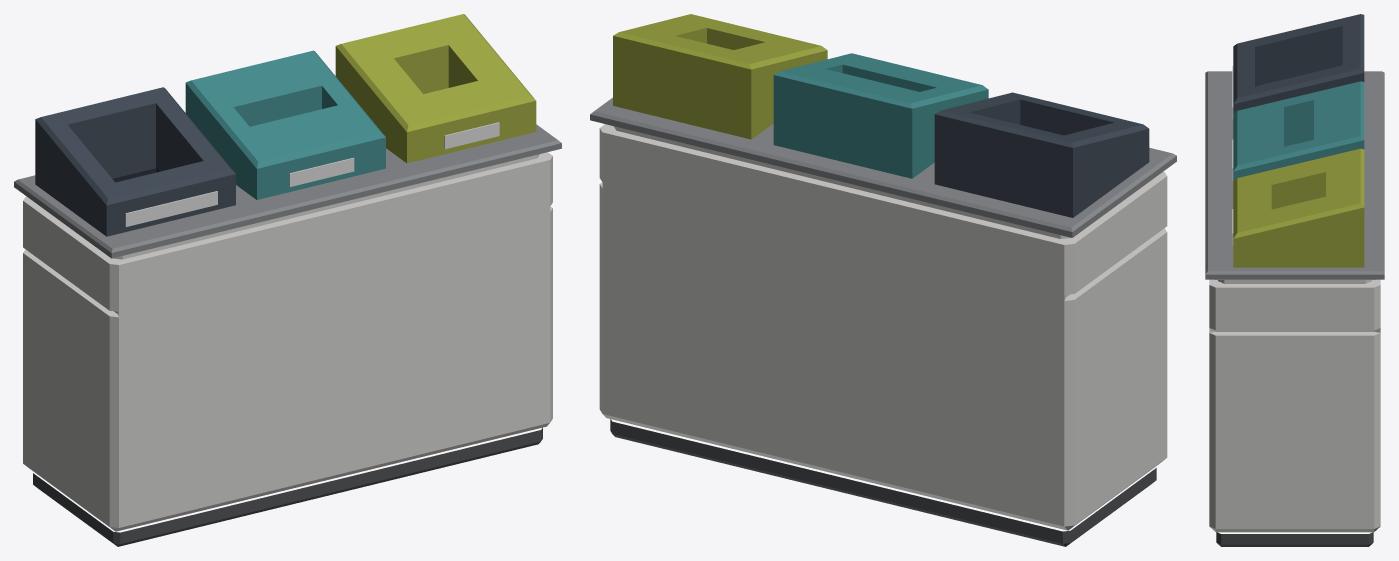
File: three-stream-recycling-station-14da24.glb
3 views of the same model, side by side, from view 1: azimuth 30°, elevation 25°; view 2: azimuth 150°, elevation 25°; view 3: azimuth 270°, elevation 25° (orthographic). The views are drawn at different scales.
Visible parts, largest first — view 1: station, lid-general, lid-cans, lid-paper; view 2: station, lid-general, lid-paper, lid-cans; view 3: station, lid-cans, lid-general, lid-paper.
Boxes of the visible parts, x1=… form: station: x1=14, y1=124, x2=561, y2=546; lid-general: x1=35, y1=87, x2=235, y2=236; lid-cans: x1=335, y1=14, x2=536, y2=163; lid-paper: x1=185, y1=50, x2=385, y2=199; station: x1=590, y1=97, x2=1176, y2=546; lid-general: x1=934, y1=92, x2=1149, y2=217; lid-paper: x1=773, y1=53, x2=988, y2=178; lid-cans: x1=613, y1=14, x2=827, y2=139; station: x1=1205, y1=71, x2=1384, y2=546; lid-cans: x1=1232, y1=148, x2=1364, y2=267; lid-general: x1=1232, y1=14, x2=1364, y2=119; lid-paper: x1=1232, y1=81, x2=1364, y2=180.
Bounding box in the file's own units: 1.2 × 0.9535 × 0.45.
